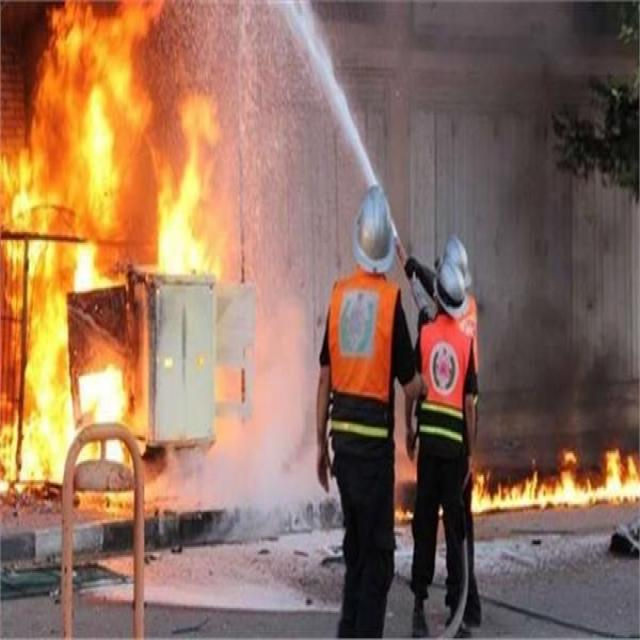Fire: (16, 0, 195, 267), (9, 243, 83, 499), (79, 365, 140, 435)
